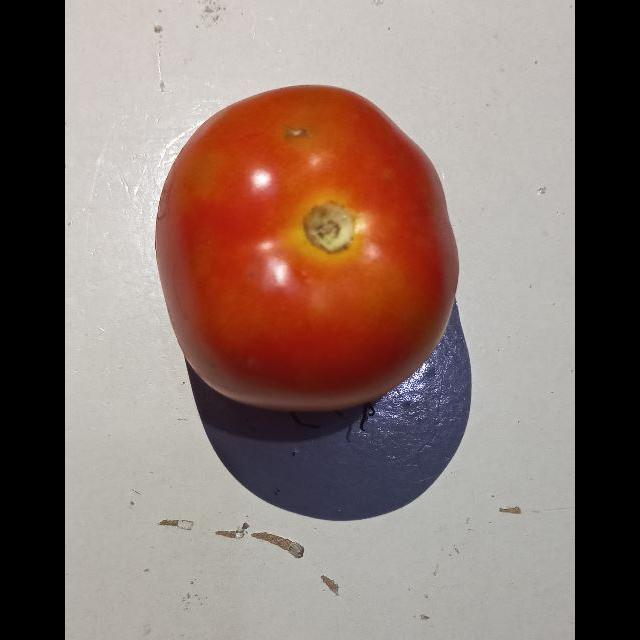tomato: (139, 64, 459, 404)
